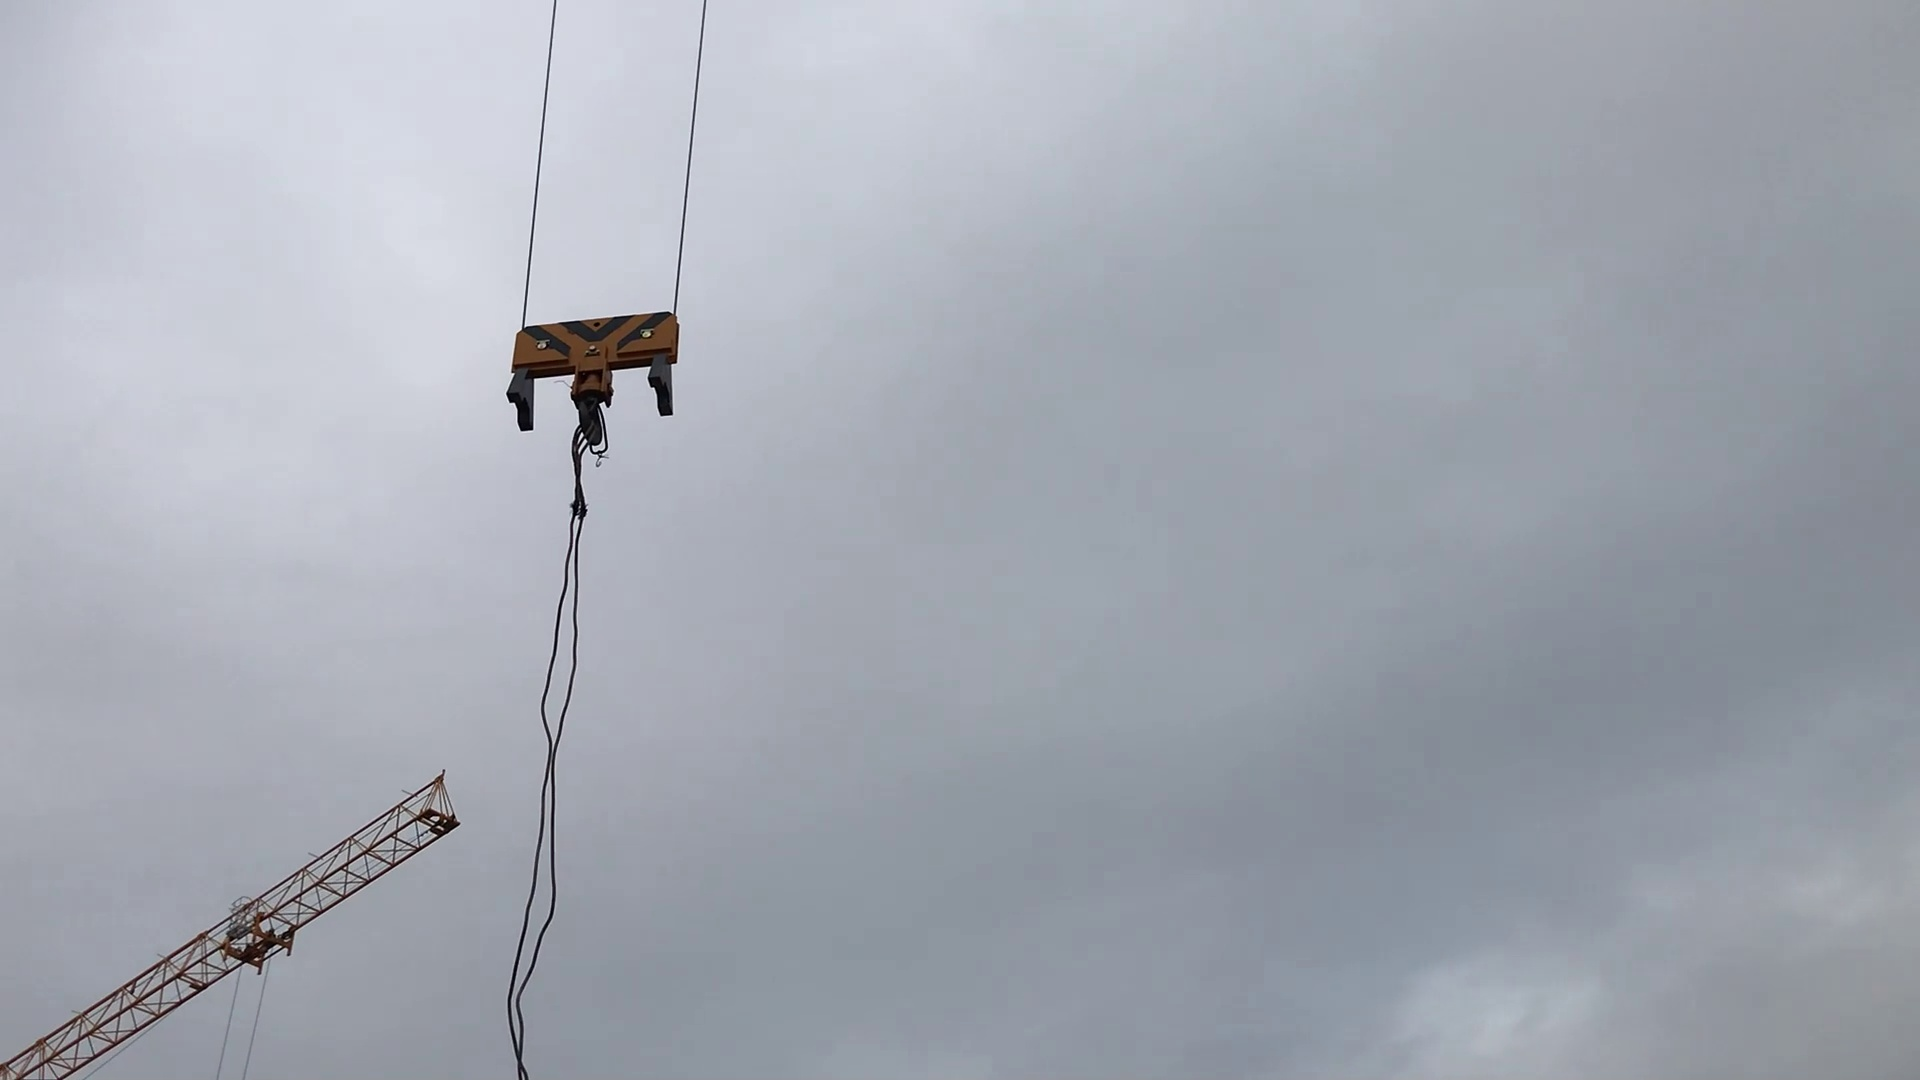hook: (497, 307, 699, 456)
